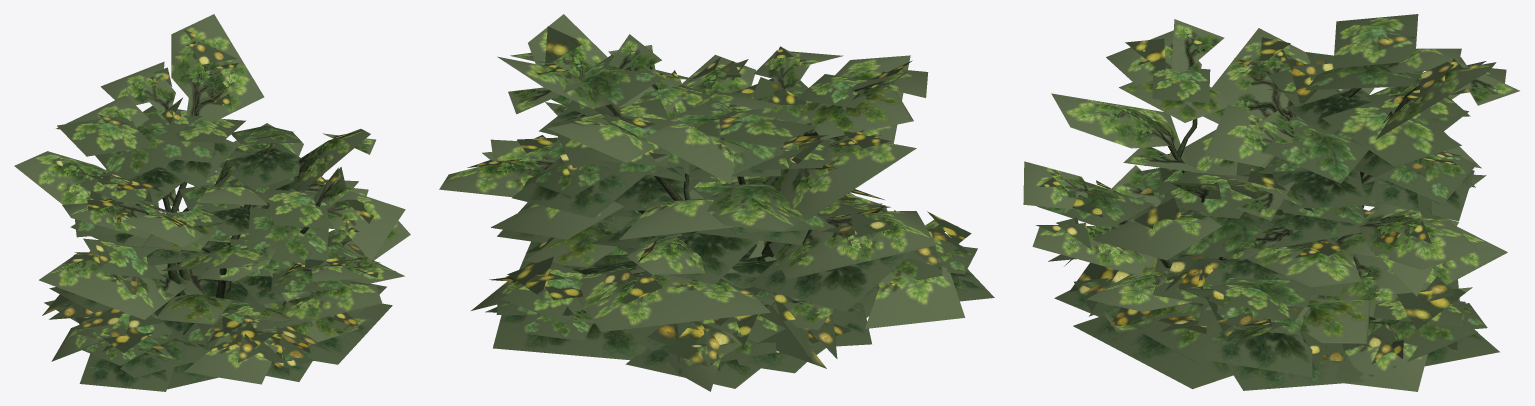
File: Scene_Tree_Shu_7.FBX
3 renders of one model, left to right at view 1: azimuth 30°, elevation 25°; view 2: azimuth 150°, elevation 25°; view 3: azimuth 270°, elevation 25°, orthographic. The views are drawn at different scales.
Visible parts, largest first — view 1: Scene_Tree_Shu_7; view 2: Scene_Tree_Shu_7; view 3: Scene_Tree_Shu_7.
Part boxes in pixels (<box>): Scene_Tree_Shu_7: <box>14,14,410,391</box>; Scene_Tree_Shu_7: <box>439,14,994,391</box>; Scene_Tree_Shu_7: <box>1023,14,1519,391</box>.
Bounding box in the file's own units: 336 × 213 × 318.
